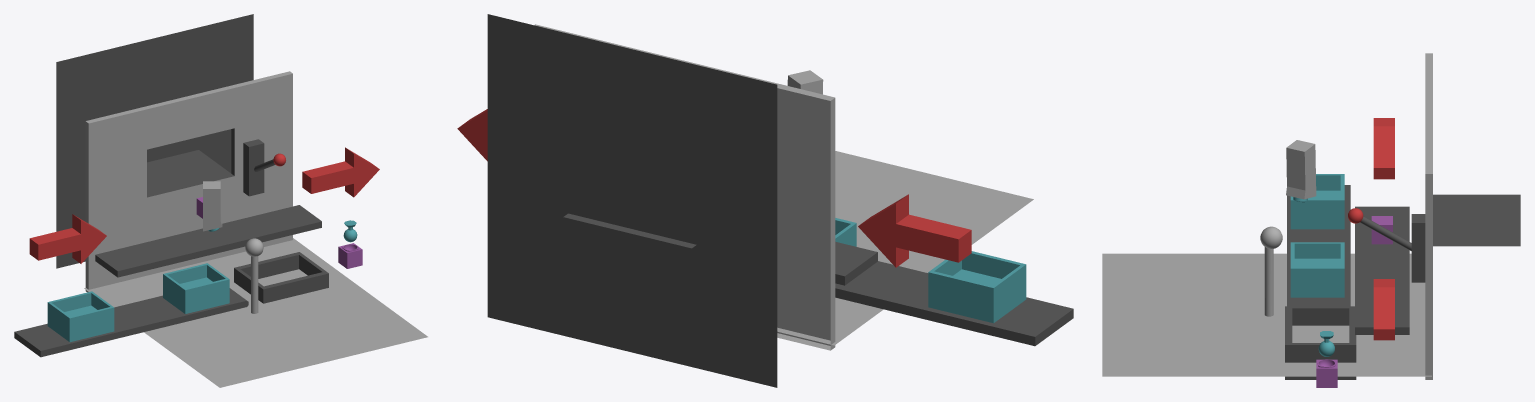
Rendered from Blockout export 1.fbx.
3 views of the same model, side by side, from view 1: azimuth 30°, elevation 25°; view 2: azimuth 150°, elevation 25°; view 3: azimuth 270°, elevation 25° (orthographic). The views are drawn at different scales.
Visible parts, largest first — view 1: wall_cube1, floor_plane, pPlane1, conveyer1, conveyer2, pCube18, parts_box1, parts_box, pCube15, pCube16, lever, button (+2 smaller); view 2: pPlane1, wall_cube1, floor_plane, conveyer2, parts_box1, pCube15, conveyer1, pCube16, button, parts_box; view 3: floor_plane, wall_cube1, conveyer1, parts_box, pCube18, conveyer2, parts_box1, button, pCube15, pCube16, lever, pCylinder4 (+4 smaller).
Boxes of the visible parts, left/top/right/bottom form: wall_cube1: left=85, top=71, right=292, bottom=292; floor_plane: left=84, top=238, right=427, bottom=387; pPlane1: left=56, top=14, right=253, bottom=268; conveyer1: left=95, top=205, right=321, bottom=277; conveyer2: left=14, top=288, right=248, bottom=357; pCube18: left=234, top=252, right=328, bottom=303; parts_box1: left=47, top=291, right=114, bottom=342; parts_box: left=163, top=263, right=229, bottom=313; pCube15: left=29, top=214, right=106, bottom=263; pCube16: left=302, top=147, right=379, bottom=197; lever: left=243, top=139, right=264, bottom=196; button: left=203, top=181, right=222, bottom=231; pPlane1: left=487, top=14, right=777, bottom=387; wall_cube1: left=534, top=24, right=835, bottom=350; floor_plane: left=777, top=151, right=1033, bottom=345; conveyer2: left=835, top=261, right=1073, bottom=346; parts_box1: left=928, top=251, right=1026, bottom=323; pCube15: left=858, top=194, right=971, bottom=267; conveyer1: left=835, top=241, right=877, bottom=285; pCube16: left=457, top=109, right=487, bottom=161; button: left=787, top=70, right=823, bottom=94; parts_box: left=835, top=218, right=856, bottom=246; floor_plane: left=1102, top=253, right=1431, bottom=376; wall_cube1: left=1425, top=53, right=1520, bottom=379; conveyer1: left=1355, top=206, right=1409, bottom=334; parts_box: left=1290, top=242, right=1344, bottom=297; pCube18: left=1285, top=306, right=1356, bottom=379; conveyer2: left=1287, top=185, right=1350, bottom=306; parts_box1: left=1290, top=174, right=1344, bottom=229; button: left=1286, top=140, right=1316, bottom=199; pCube15: left=1373, top=118, right=1394, bottom=179; pCube16: left=1373, top=279, right=1394, bottom=340; lever: left=1411, top=214, right=1425, bottom=282; pCylinder4: left=1264, top=247, right=1273, bottom=316.
Size of the model in its own units: 2.46 by 1.35 by 1.96.
